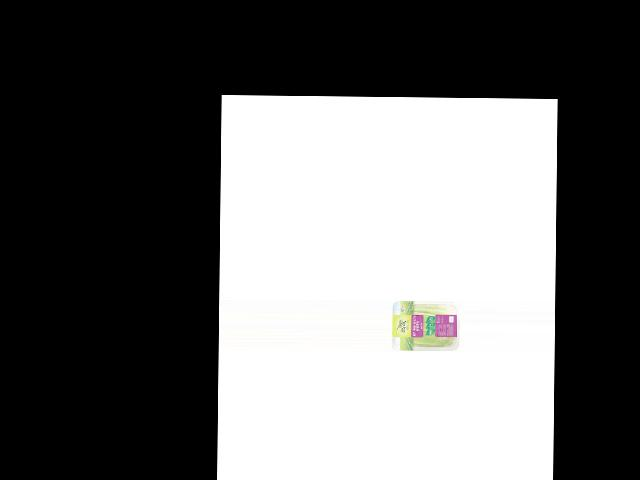lettuce: (396, 299, 460, 351)
